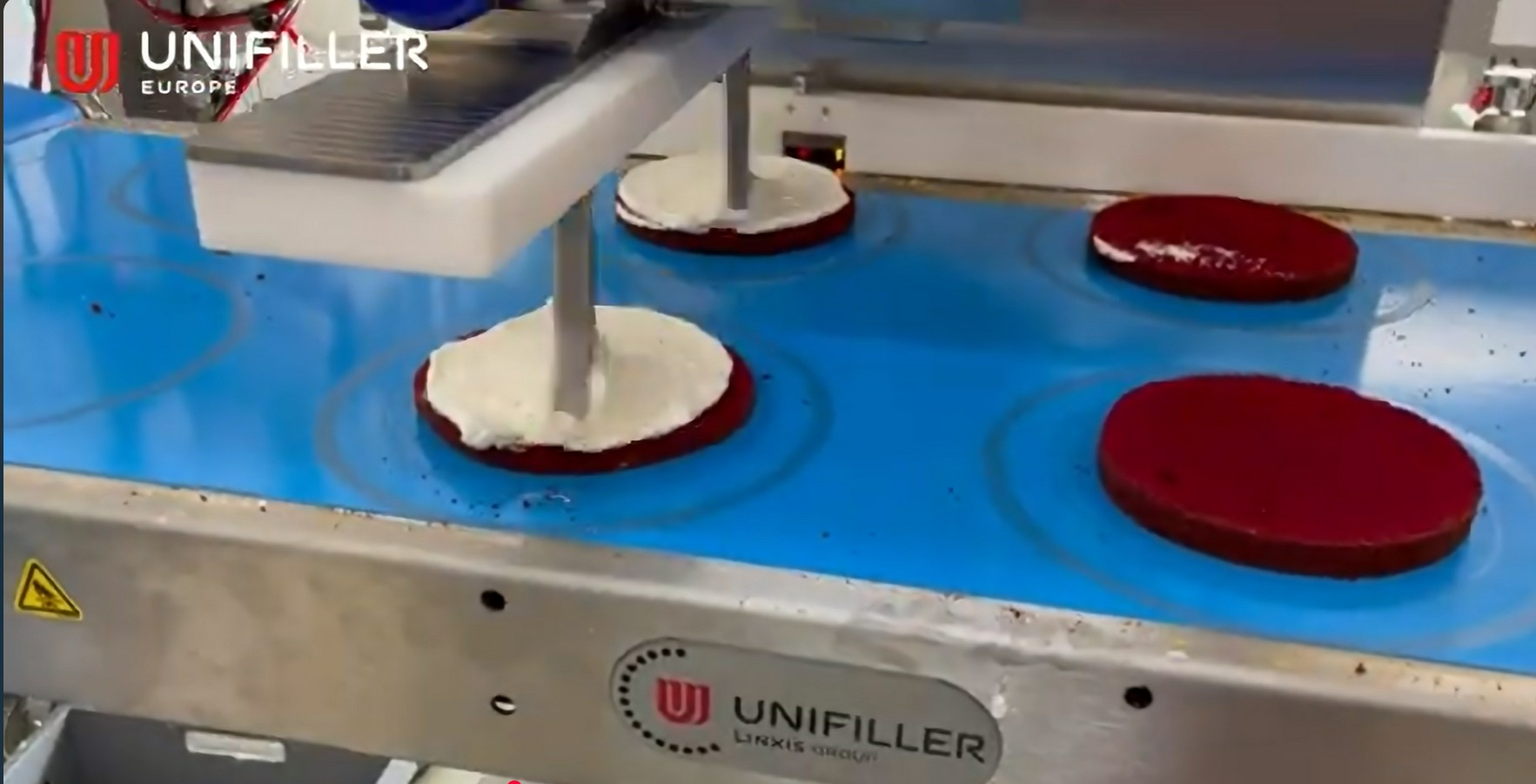Red Velvet: (1101, 376, 1483, 577), (1088, 184, 1361, 309), (613, 150, 854, 253)
Whipped Cream: (416, 307, 755, 468)
